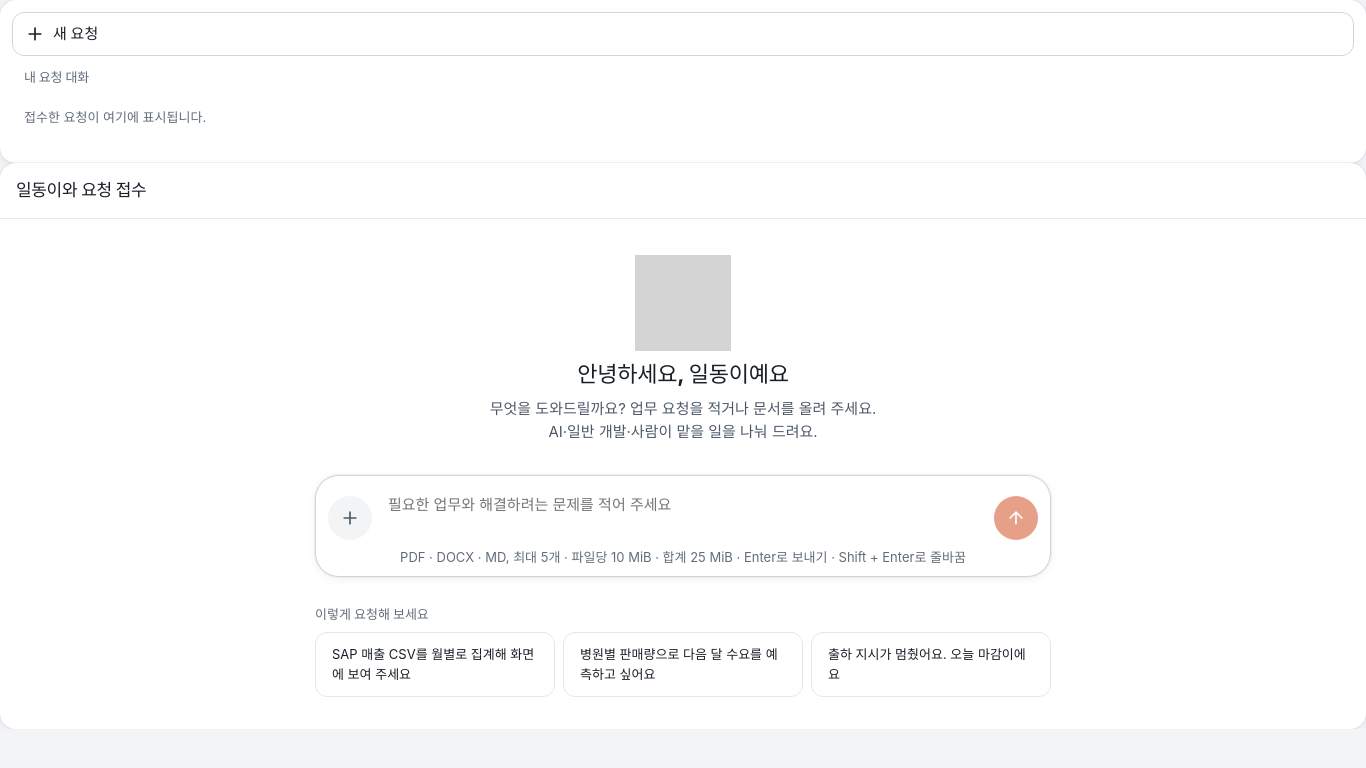
Test: optimistic request card › rolls back on failure: bubble removed, text kept, reason and retry shown
Type "챗봇을 도입하고 싶습니다" into the text box named "요청 내용". click: [683, 512]
box: [380,484,986,540]
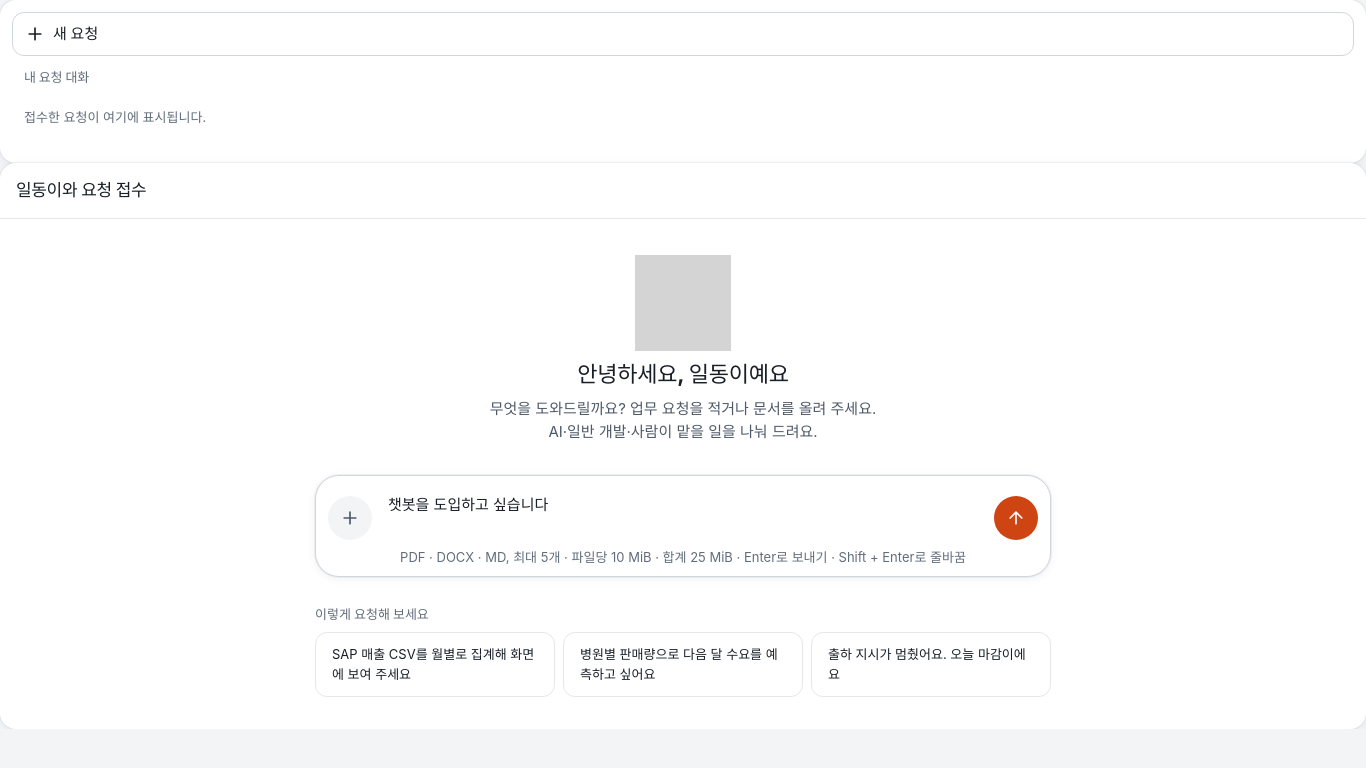
Click the button named "요청 보내기". click: [1016, 518]
box: [994,496,1038,540]
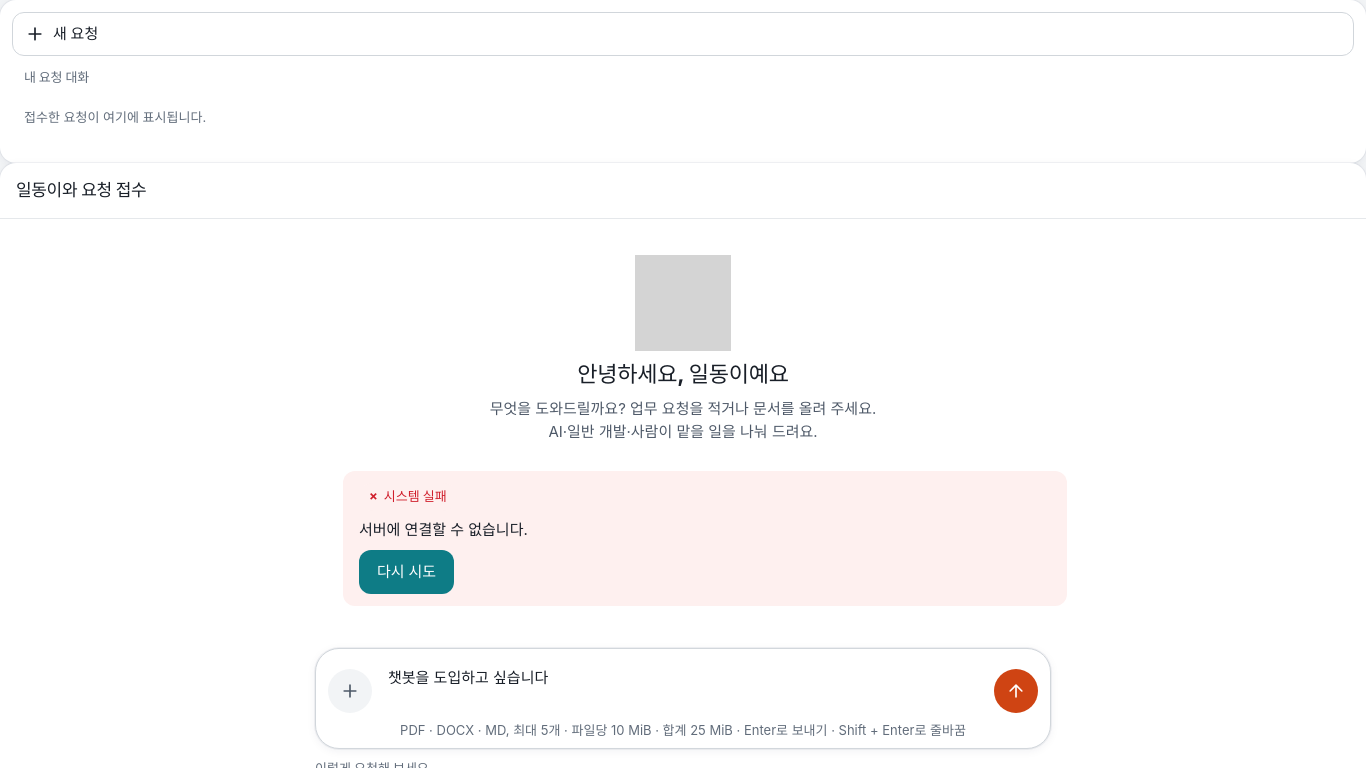
Check: the message shows "서버에 연결할 수 없습니다.", box [359,520,528,539]
Click the button "다시 시도". click: [406, 572]
box: [359,550,454,594]
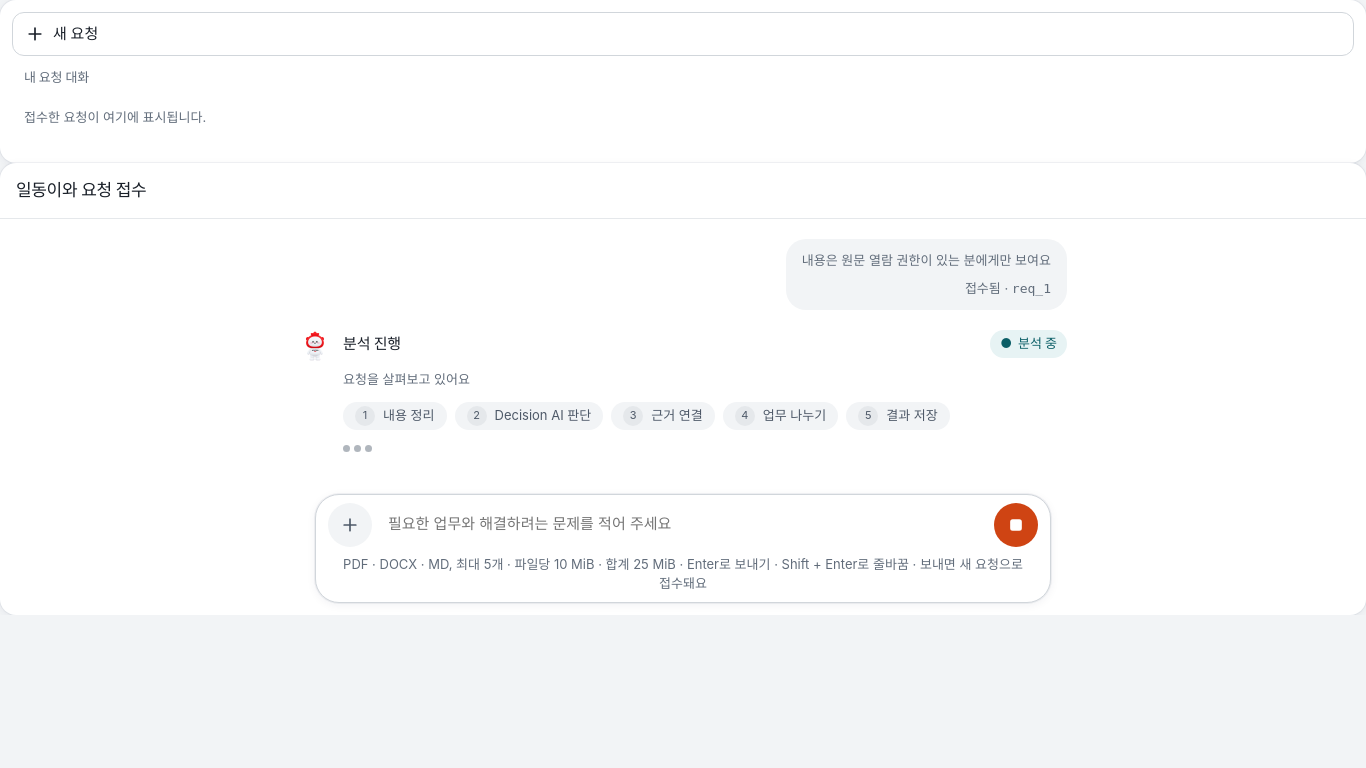
Check: the element named "내가 보낸 요청" shows "req_1", box [1012,280,1051,296]
